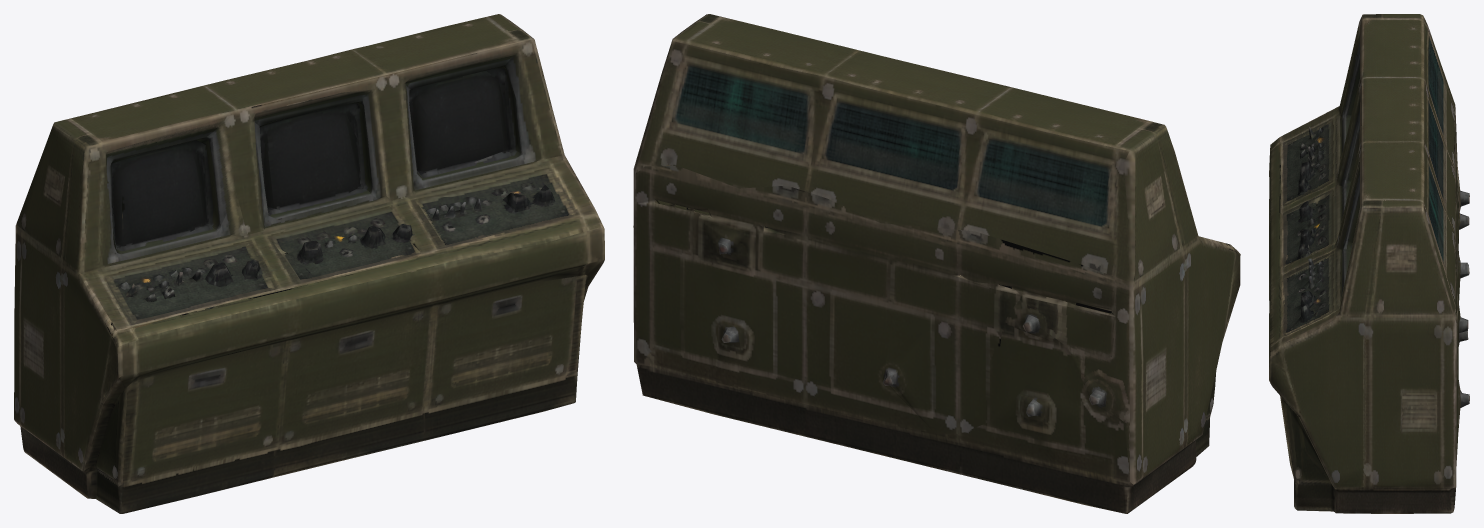
File: bunker_command_console.glb
The picture shows the model from 3 angles, left to right: view 1: azimuth 30°, elevation 25°; view 2: azimuth 150°, elevation 25°; view 3: azimuth 270°, elevation 25°; orthographic projection. The views are drawn at different scales.
Visible parts, largest first — view 1: CommandConsole; view 2: CommandConsole; view 3: CommandConsole.
Boxes of the visible parts, x1,y1,x2,y2 form: CommandConsole: [14, 14, 604, 513]; CommandConsole: [633, 14, 1240, 513]; CommandConsole: [1269, 14, 1469, 513].
Size of the model in its own units: 1.8 by 1.2 by 0.72.
Materials: 1 (1 with a texture image).
